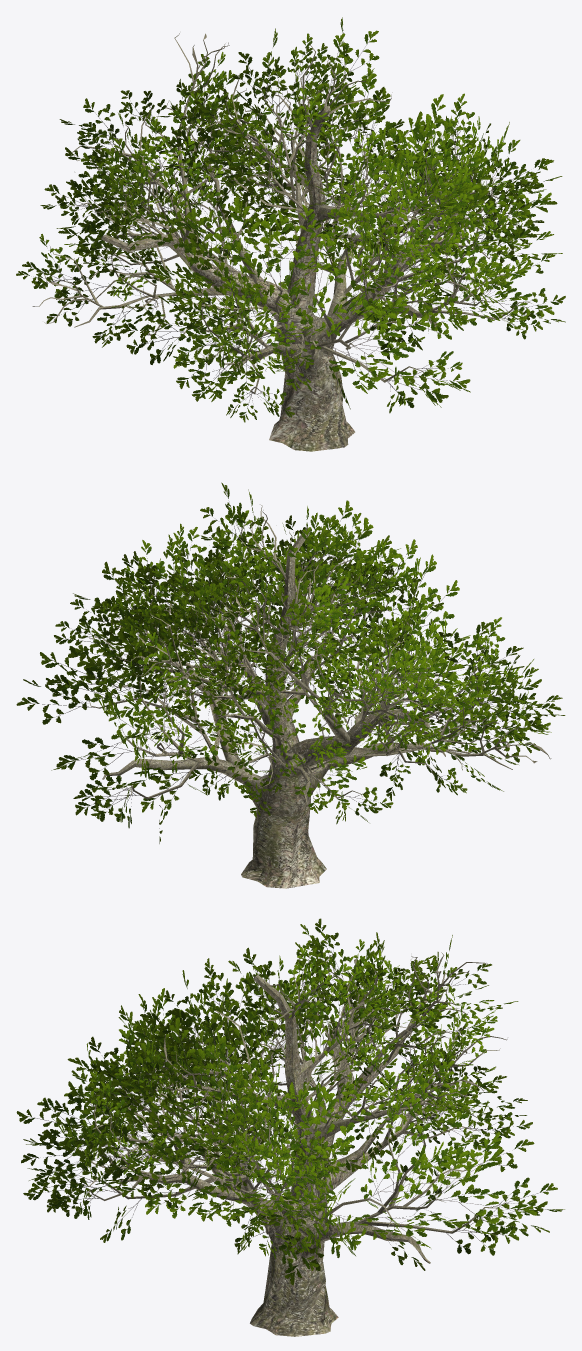
Rendered from tree_oak.glb.
The picture shows the model from 3 angles, top to bottom: view 1: azimuth 30°, elevation 25°; view 2: azimuth 150°, elevation 25°; view 3: azimuth 270°, elevation 25°; orthographic projection. The views are drawn at different scales.
Parts seen in each view (by area): view 1: m; view 2: m; view 3: m.
Part boxes in pixels (bbox=[...]): m: bbox=[16, 17, 565, 451]; m: bbox=[16, 482, 565, 888]; m: bbox=[16, 918, 564, 1336].
Bounding box in the file's own units: 1.33 × 0.9544 × 1.23.
2 materials, 2 textured.
